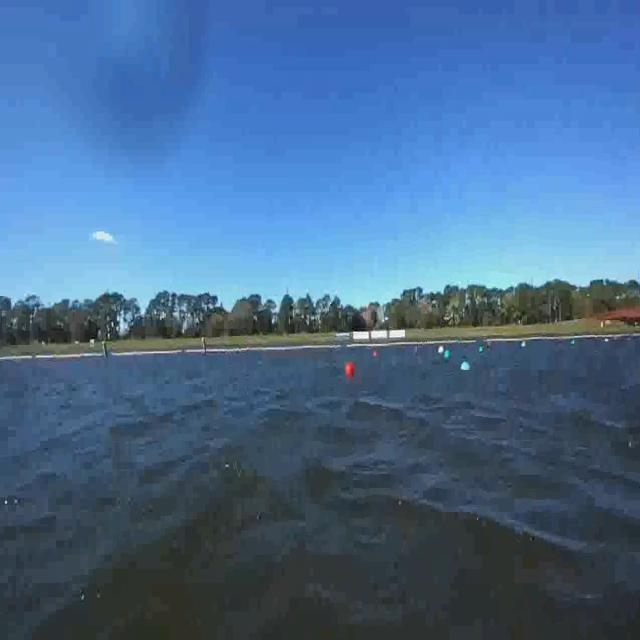green-buoy: (460, 360, 474, 374), (443, 348, 452, 362), (478, 344, 487, 355)
red-buoy: (346, 361, 356, 376), (372, 347, 380, 360)
